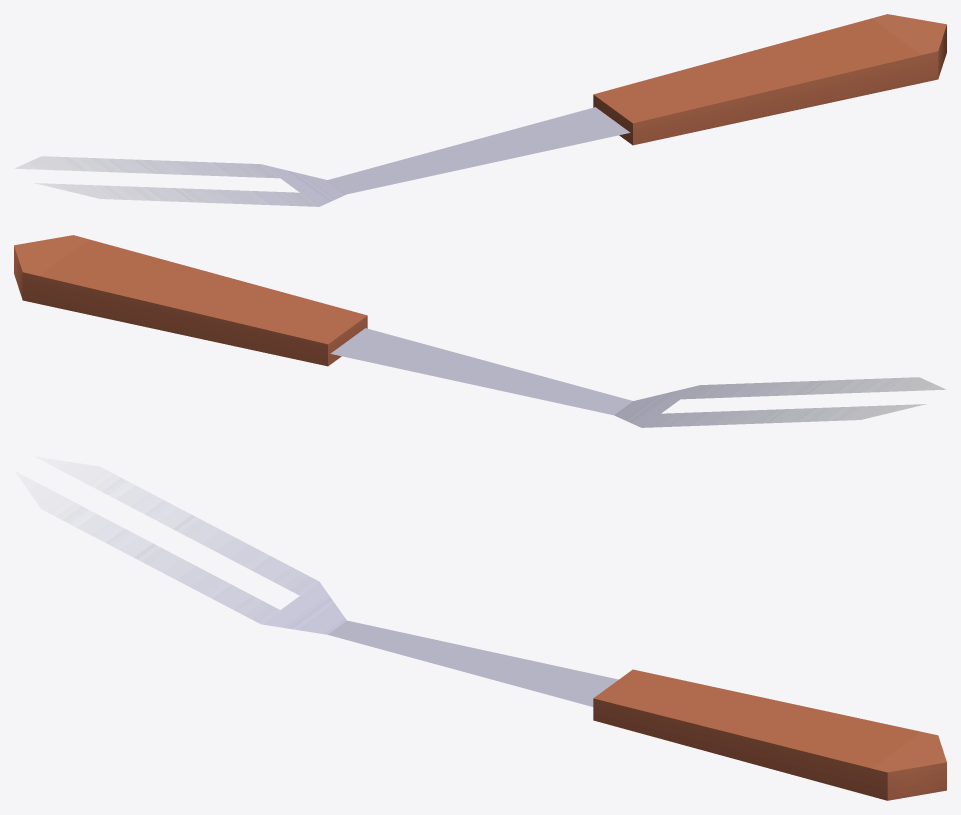
File: cooking-fork.glb
The picture shows the model from 3 angles, top to bottom: view 1: azimuth 30°, elevation 25°; view 2: azimuth 150°, elevation 25°; view 3: azimuth 330°, elevation 25°; orthographic projection.
Visible parts, largest first — view 1: cooking-fork; view 2: cooking-fork; view 3: cooking-fork.
Part boxes in pixels (left/top/right/bottom): cooking-fork: left=14, top=14, right=946, bottom=206; cooking-fork: left=14, top=235, right=946, bottom=427; cooking-fork: left=14, top=456, right=946, bottom=800.
Bounding box in the file's own units: 0.6827 × 0.0721 × 0.0749.
Materials: 1 (1 with a texture image).
